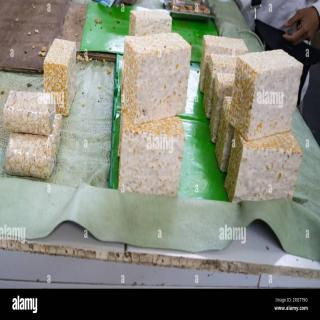Tempe: (230, 49, 305, 142), (224, 130, 304, 203), (200, 35, 249, 94), (44, 39, 78, 117), (3, 90, 57, 137), (5, 133, 58, 180), (204, 54, 239, 119), (210, 73, 236, 145), (215, 96, 236, 173), (130, 10, 174, 38)
